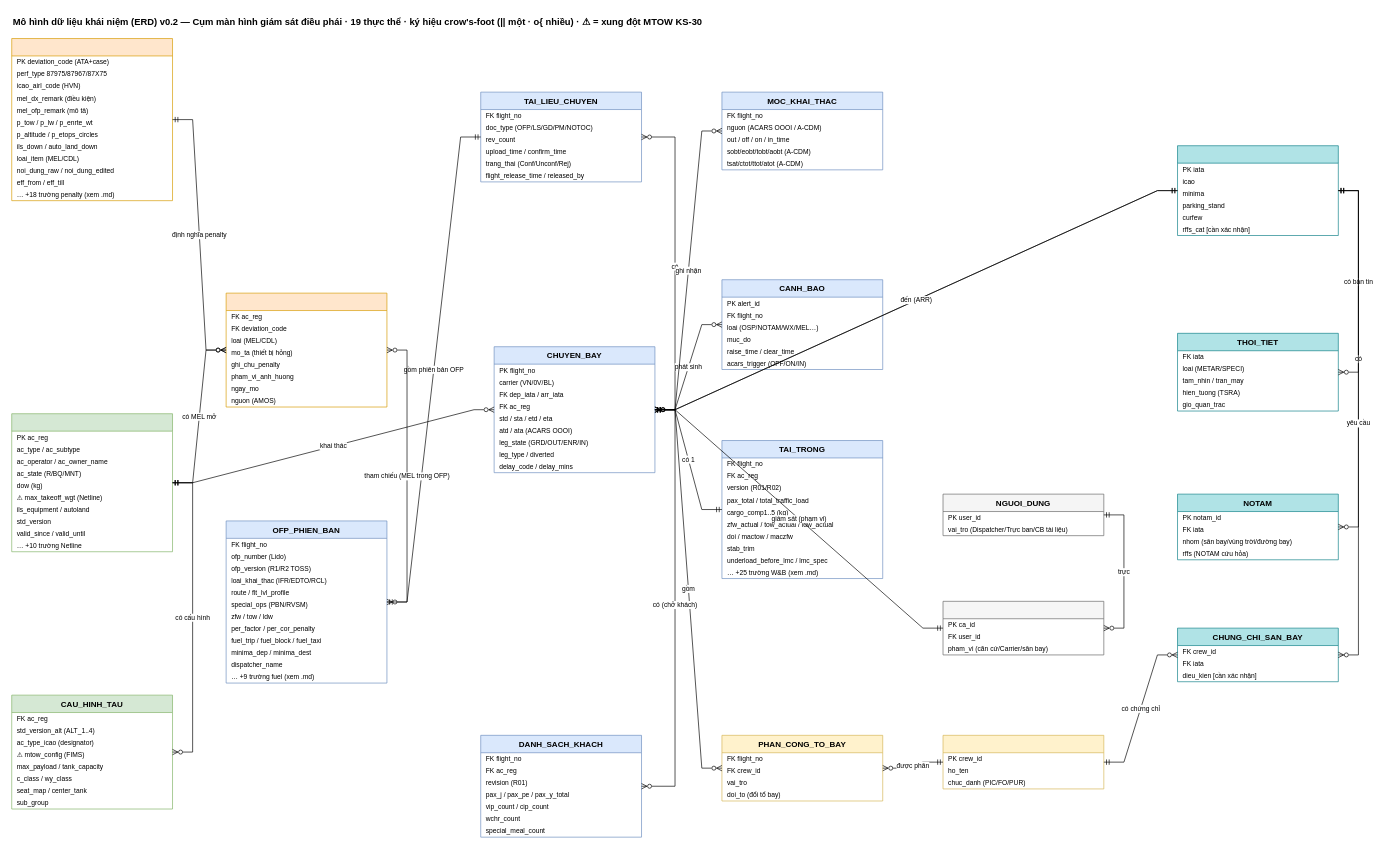
Image size: 1384x849. Some labels were removed from this diagram. The box of each missing label's shape, as (x1, y1, x2, y2) in pixels:
CA_TRUC: (942, 601, 1104, 655)
MASTER_MEL: (11, 38, 173, 201)
MEL_ITEM_ACTIVE: (225, 292, 387, 407)
SAN_BAY: (1177, 145, 1338, 236)
TAU_BAY: (11, 413, 173, 552)
TO_BAY: (942, 735, 1104, 789)
